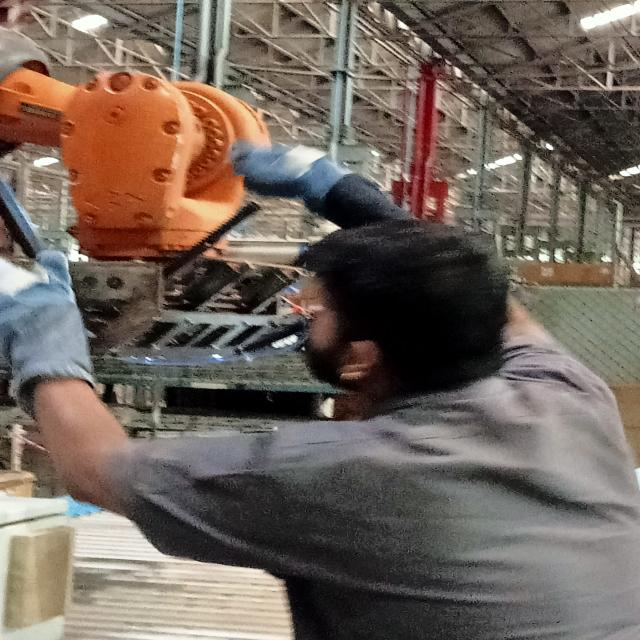Gloves-Detection: (0, 231, 101, 403), (230, 130, 374, 239)
